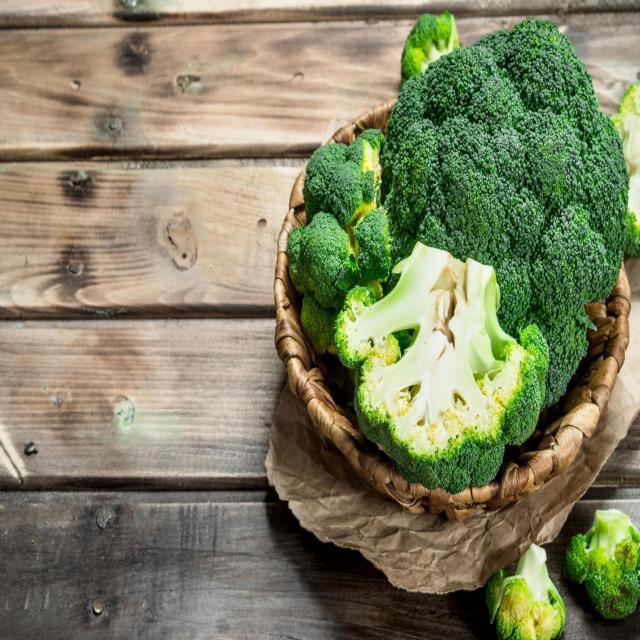broccoli: (394, 26, 630, 416), (336, 237, 548, 499), (284, 133, 394, 357), (562, 502, 639, 620), (484, 535, 567, 640), (629, 1, 630, 2)
